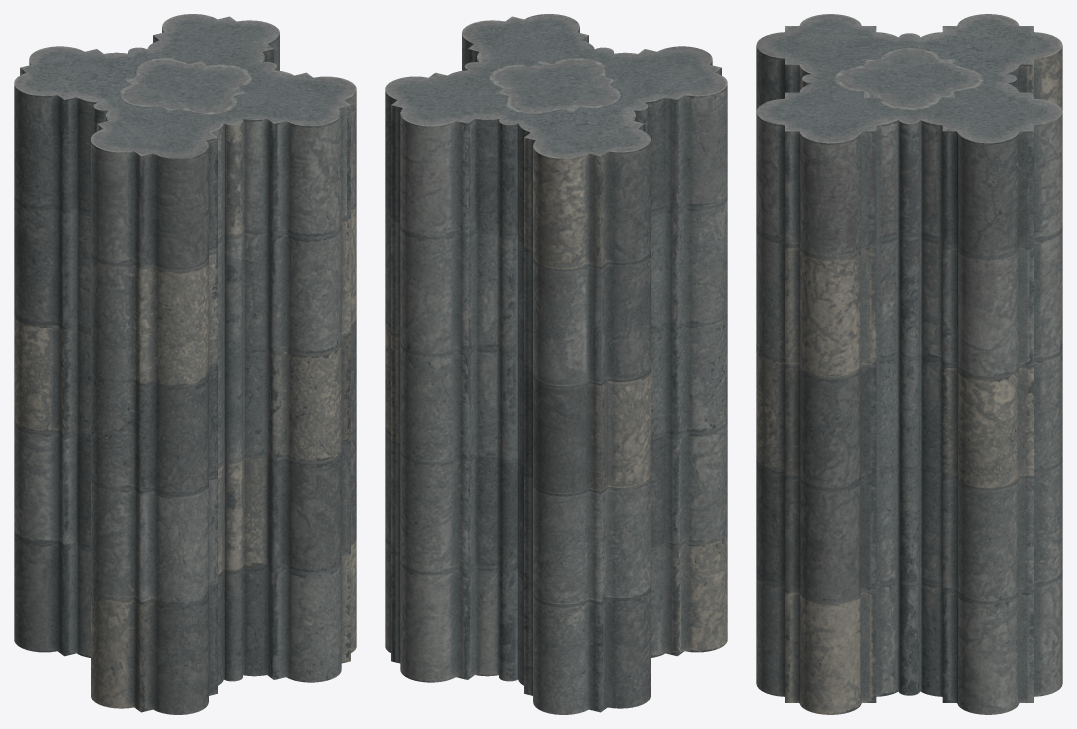
Rendered from pillars.glb.
The picture shows the model from 3 angles, left to right: view 1: azimuth 30°, elevation 25°; view 2: azimuth 150°, elevation 25°; view 3: azimuth 270°, elevation 25°; orthographic projection. The views are drawn at different scales.
Visible parts, largest first — view 1: PillarK1_XL001, PillarK1_L001; view 2: PillarK1_XL001, PillarK1_L001; view 3: PillarK1_XL001, PillarK1_L001.
Part boxes in pixels (x1,y1,x2,y2): PillarK1_XL001: [14, 14, 356, 714]; PillarK1_L001: [119, 58, 251, 114]; PillarK1_XL001: [385, 14, 727, 714]; PillarK1_L001: [490, 58, 622, 114]; PillarK1_XL001: [756, 14, 1062, 714]; PillarK1_L001: [835, 47, 983, 109].
Size of the model in its own units: 1.6 by 3.3 by 1.6.
1 material, 1 textured.
